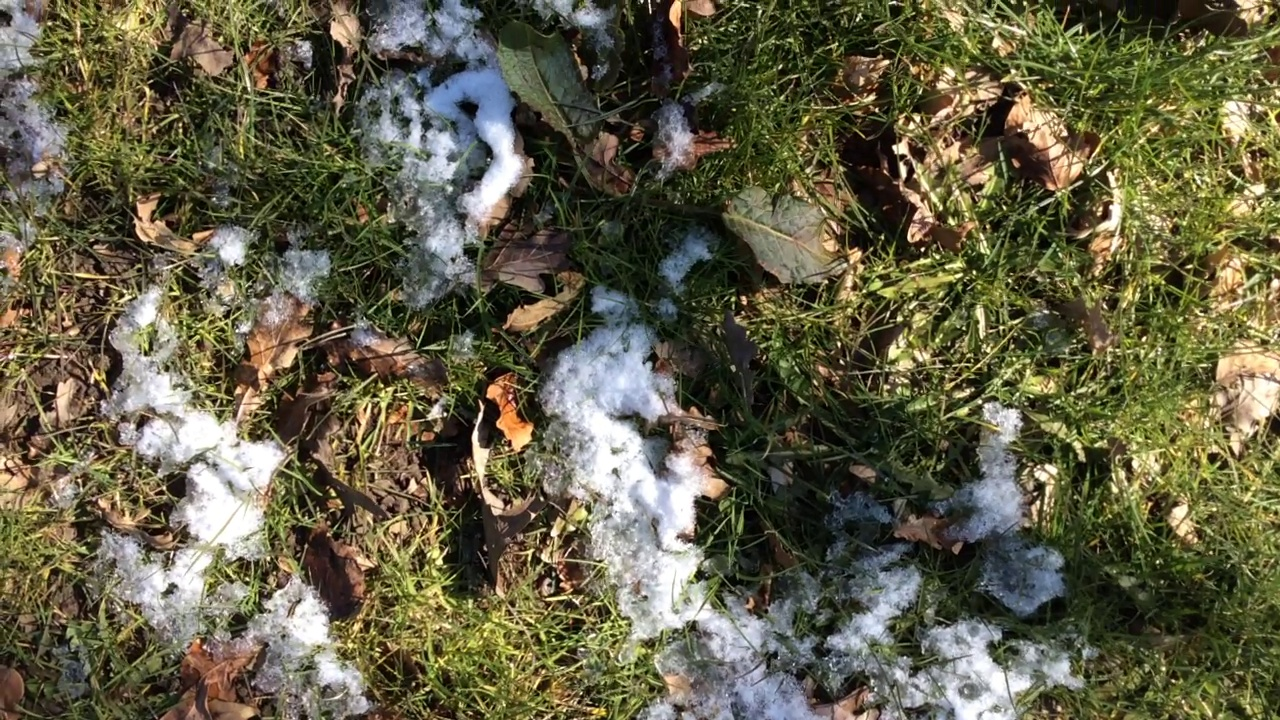root: (588, 151, 698, 229)
rumex: (491, 17, 851, 294)
